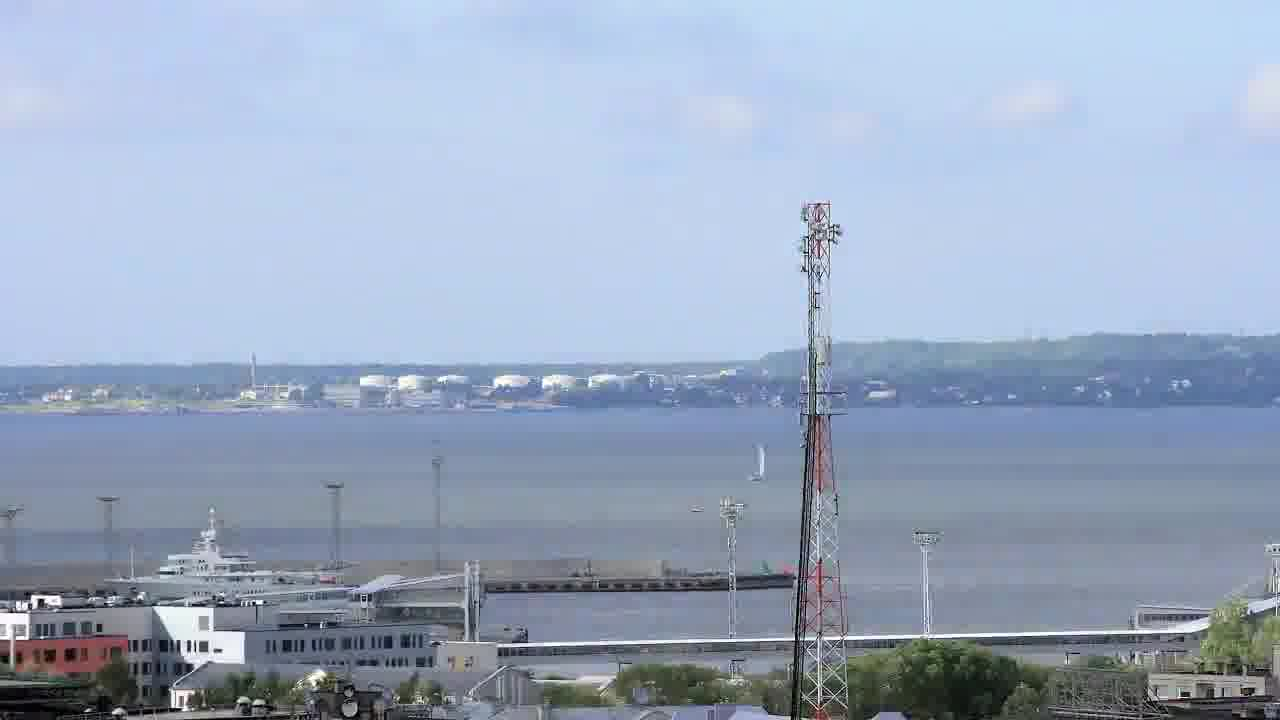type-2: (727, 430, 782, 498)
type-3: (84, 515, 355, 603)
